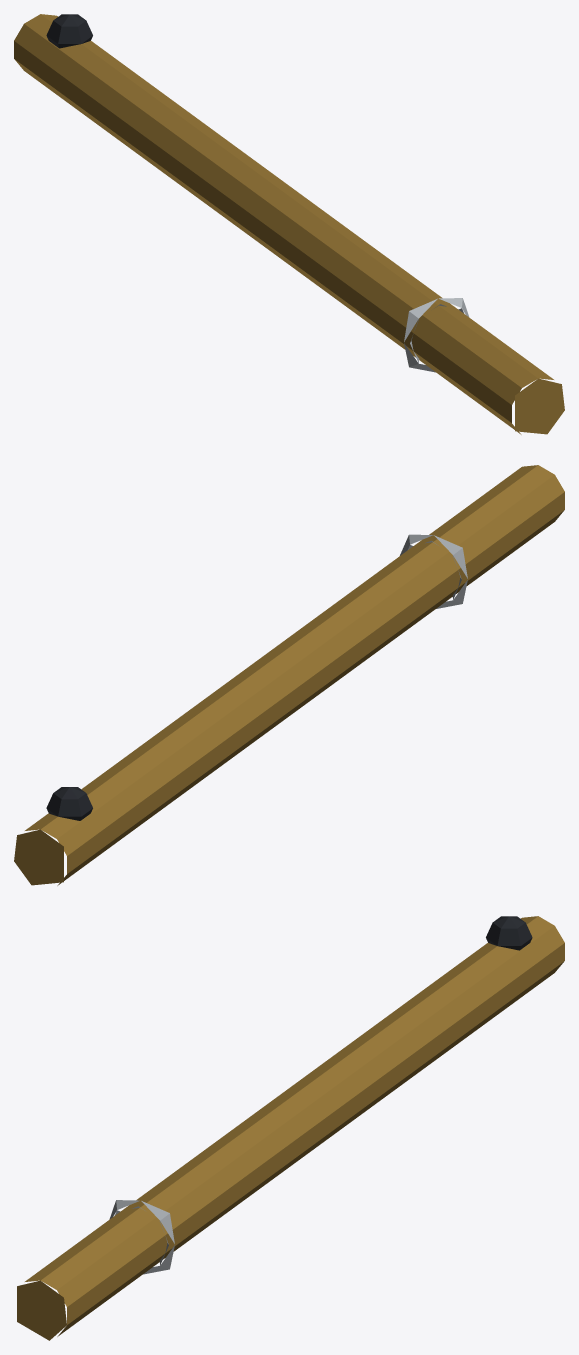
The model's file is flute.lod.glb.
3 views of the same model, one above another, from view 1: azimuth 30°, elevation 25°; view 2: azimuth 150°, elevation 25°; view 3: azimuth 330°, elevation 25° (orthographic).
Visible parts, largest first — view 1: m; view 2: m; view 3: m.
Boxes of the visible parts, bbox=[...] form: m: bbox=[14, 14, 564, 434]; m: bbox=[14, 465, 564, 885]; m: bbox=[17, 916, 564, 1340].
Size of the model in its own units: 0.0285 by 0.034 by 0.34.
